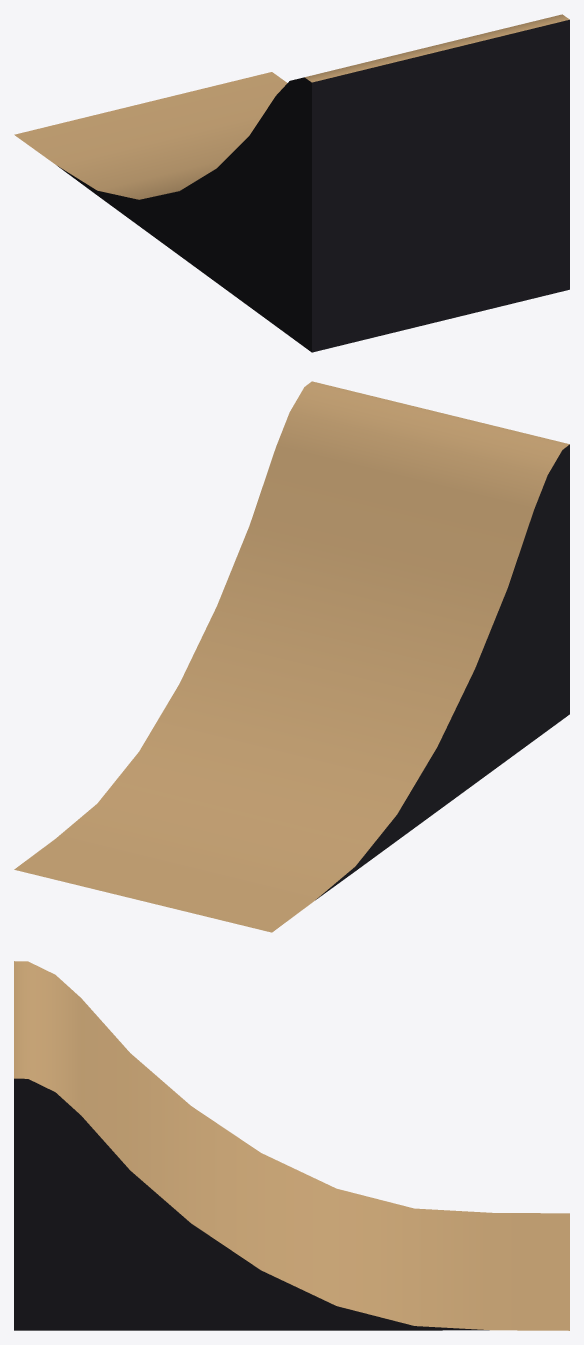
Rendered from Quater_SML_Drop_Half.fbx.
3 views of the same model, one above another, from view 1: azimuth 30°, elevation 25°; view 2: azimuth 150°, elevation 25°; view 3: azimuth 270°, elevation 25° (orthographic). The views are drawn at different scales.
Visible parts, largest first — view 1: Quater_SML_Drop_Half; view 2: Quater_SML_Drop_Half; view 3: Quater_SML_Drop_Half.
Boxes of the visible parts, x1,y1,x2,y2 form: Quater_SML_Drop_Half: [14, 14, 569, 352]; Quater_SML_Drop_Half: [14, 381, 569, 932]; Quater_SML_Drop_Half: [14, 961, 569, 1330].
Size of the model in its own units: 5 by 5.01 by 10.
